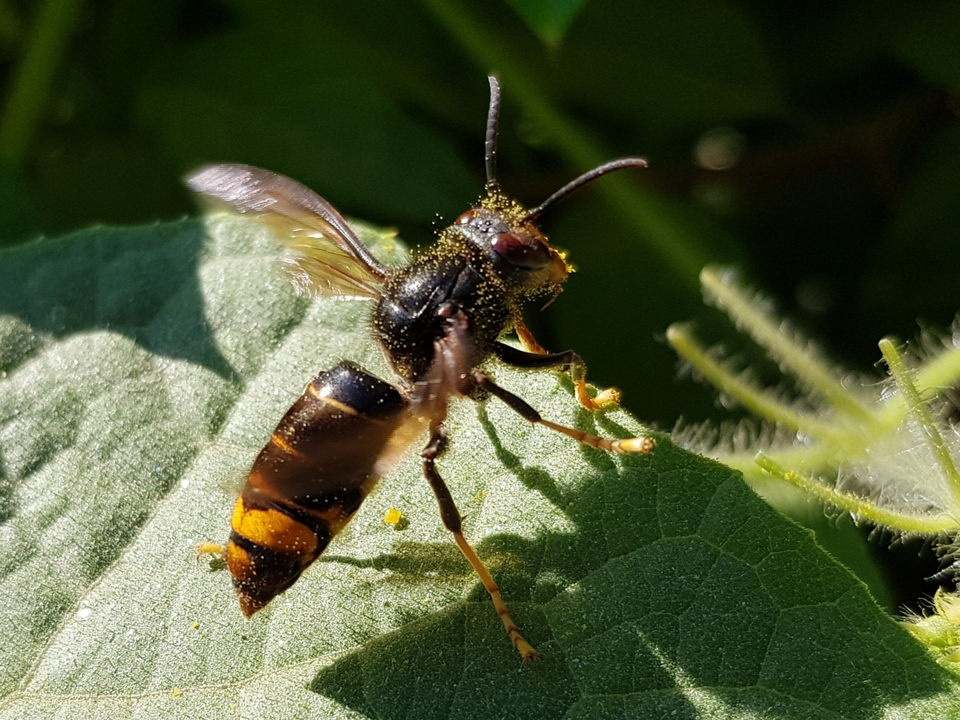hornet: (217, 155, 616, 637)
